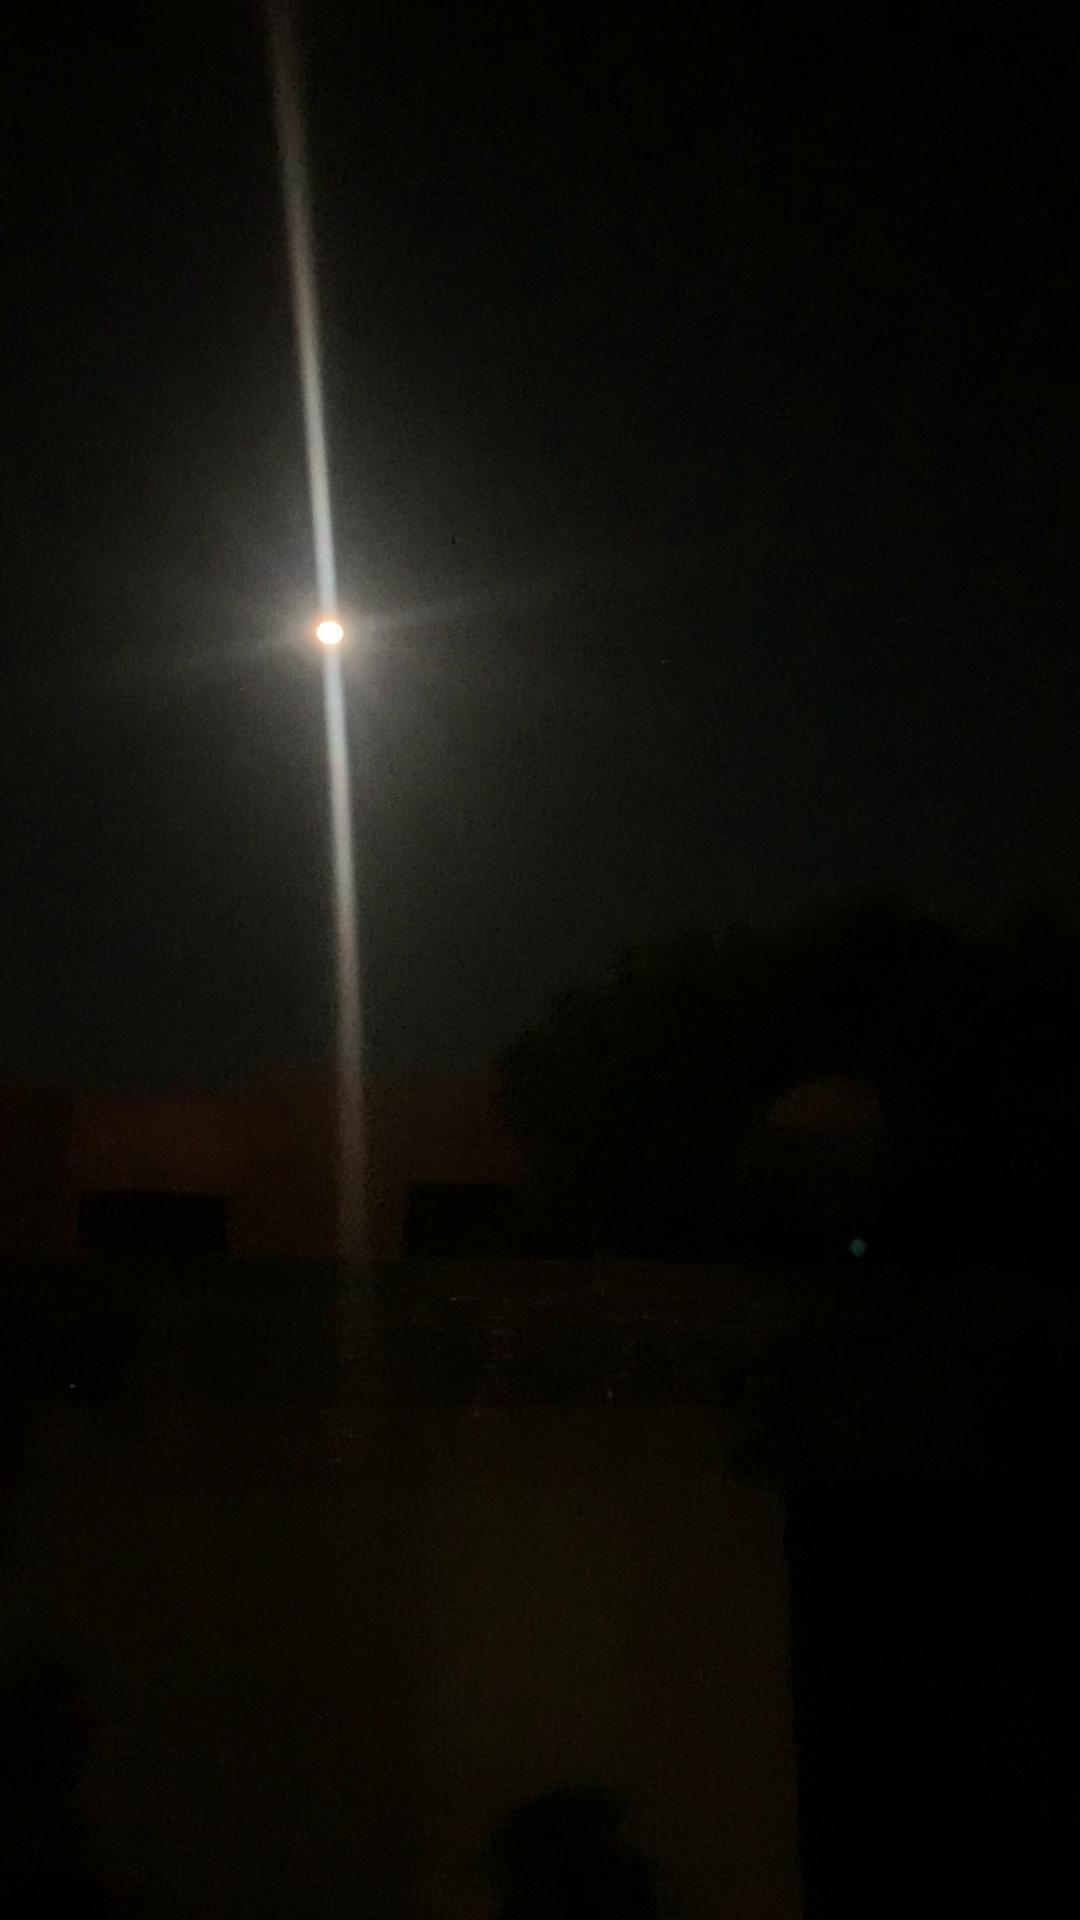moon: (289, 597, 364, 676)
